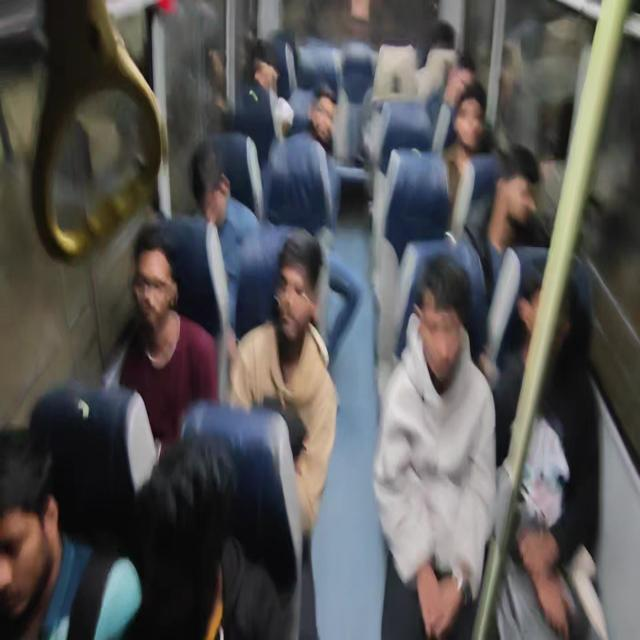person: (123, 444, 262, 622), (0, 414, 71, 615), (416, 247, 469, 394), (518, 254, 576, 368), (132, 218, 178, 353), (271, 221, 320, 338), (188, 139, 240, 231), (494, 146, 542, 230), (455, 77, 489, 152), (251, 38, 286, 106), (421, 14, 454, 73), (312, 80, 338, 142)
